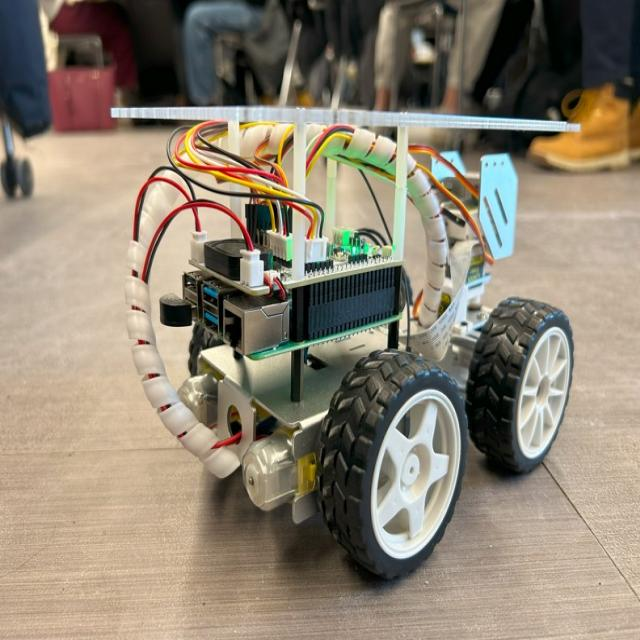vehicle: (92, 82, 598, 608)
